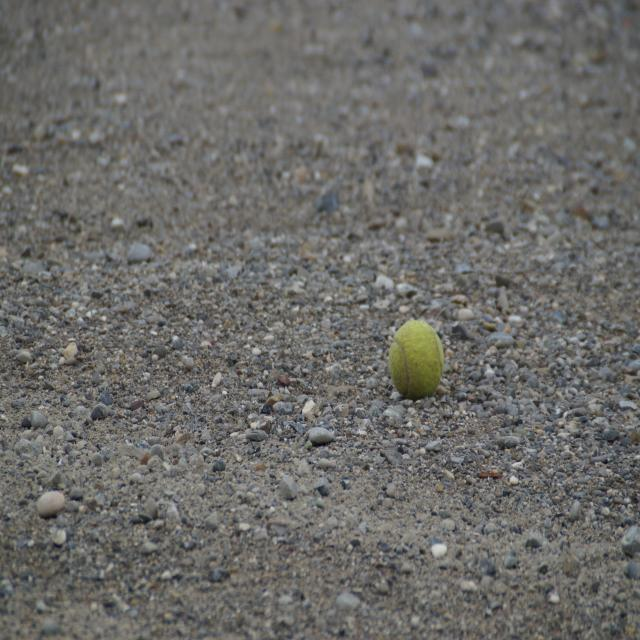Tennis ball: (384, 320, 448, 400)
